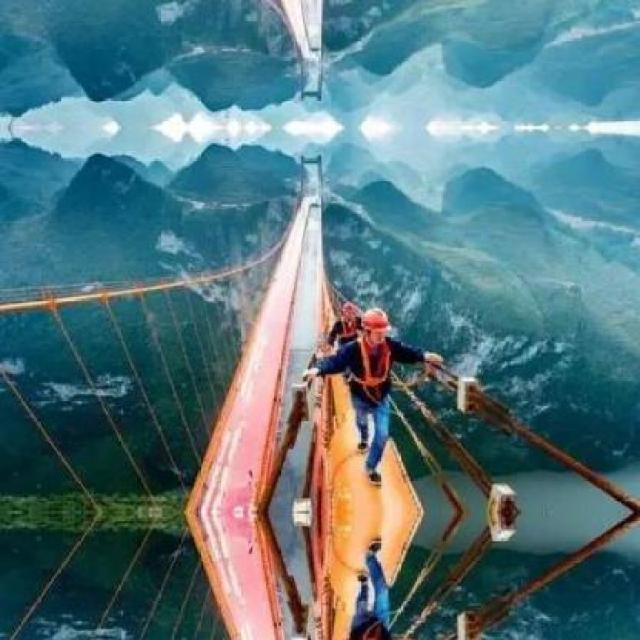helmet: (358, 304, 399, 348)
